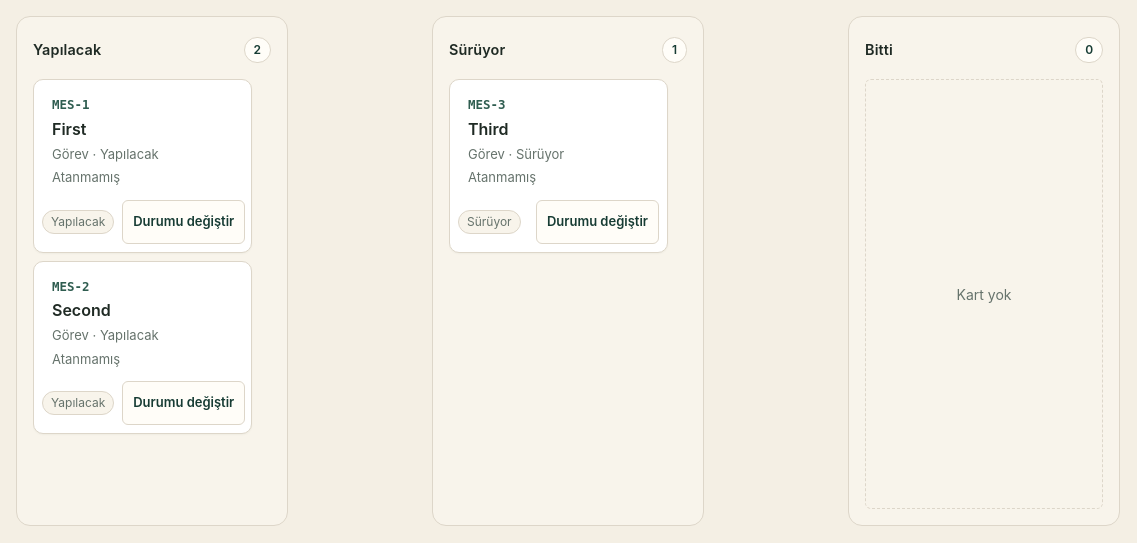
ProjectBoard › status-change controls › opens a status disclosure listing every workflow status for a movable card
Click the button with aria-label "MES-1 için durumu değiştir" at (184, 222), box [122,200,245,244]
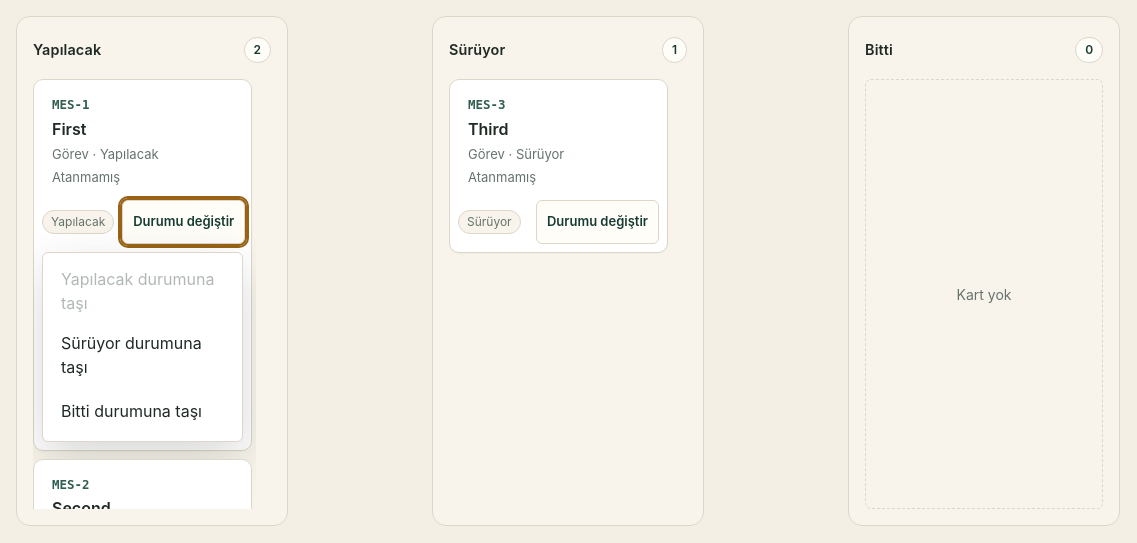
Expected: the button "Yapılacak durumuna taşı" is shown, [51,261,234,321]
Expected: the button "Sürüyor durumuna taşı" is shown, [51,325,234,385]
Expected: the button "Bitti durumuna taşı" is shown, [51,389,234,433]
